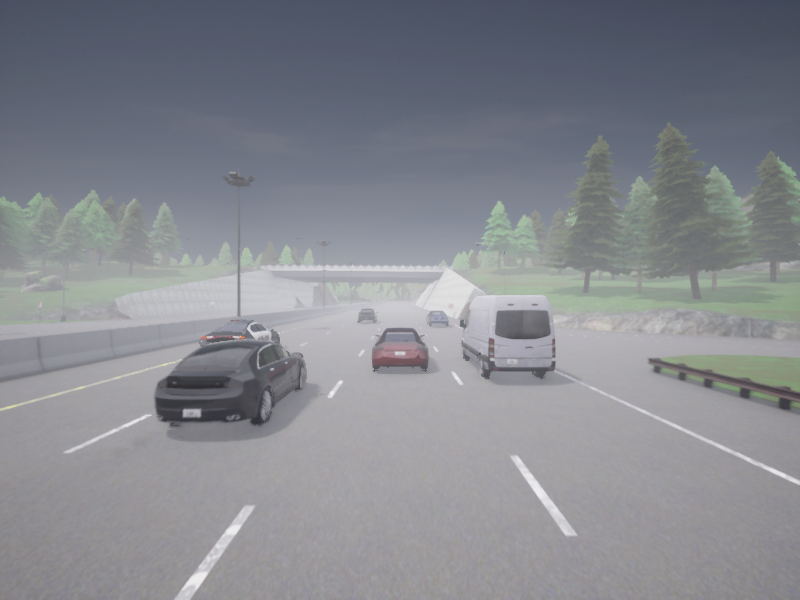vehicle: (154, 339, 305, 424), (460, 295, 555, 376), (372, 327, 428, 369), (199, 320, 278, 347), (426, 311, 448, 325), (358, 308, 378, 322)
